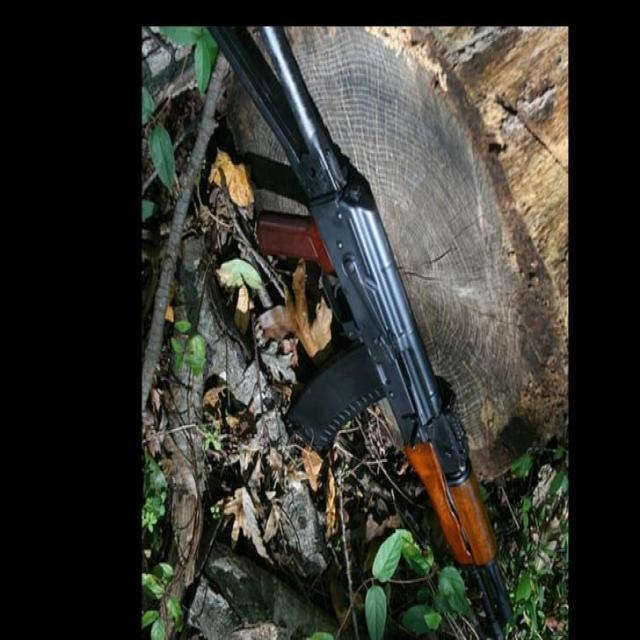weapon: (206, 26, 518, 640)
